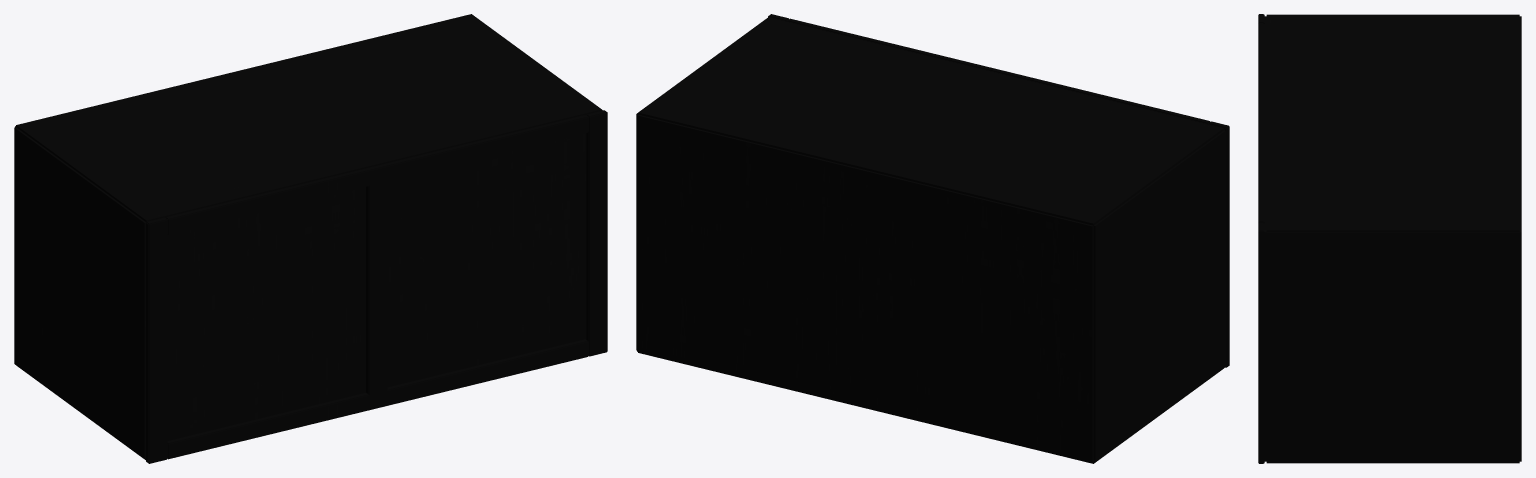
Rendered from obj_crate_wide.glb.
3 renders of one model, left to right at view 1: azimuth 30°, elevation 25°; view 2: azimuth 150°, elevation 25°; view 3: azimuth 270°, elevation 25°, orthographic. The views are drawn at different scales.
Visible parts, largest first — view 1: crate_wide_body; view 2: crate_wide_body; view 3: crate_wide_body.
Boxes of the visible parts, left/top/right/bottom form: crate_wide_body: left=14, top=14, right=607, bottom=463; crate_wide_body: left=636, top=14, right=1229, bottom=463; crate_wide_body: left=1258, top=14, right=1521, bottom=463.
Size of the model in its own units: 1.2 by 0.6 by 0.6145.
Materials: 1 (1 with a texture image).
